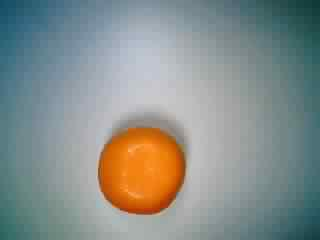orange: (91, 119, 189, 217)
